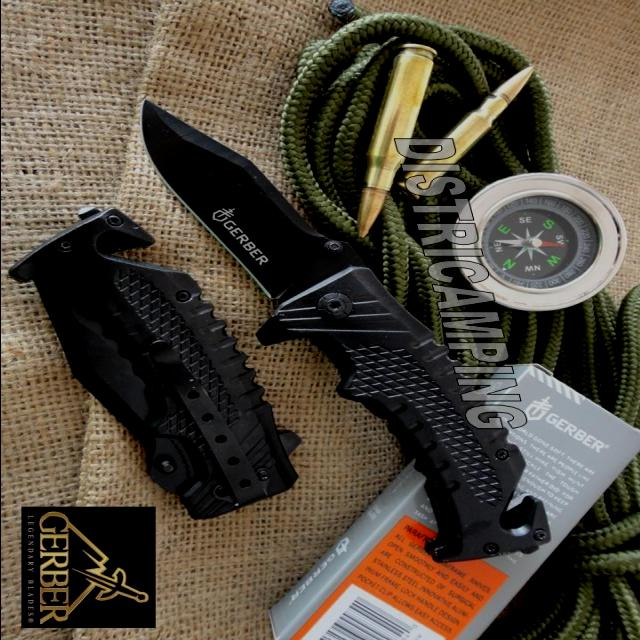knife: (129, 90, 359, 308)
